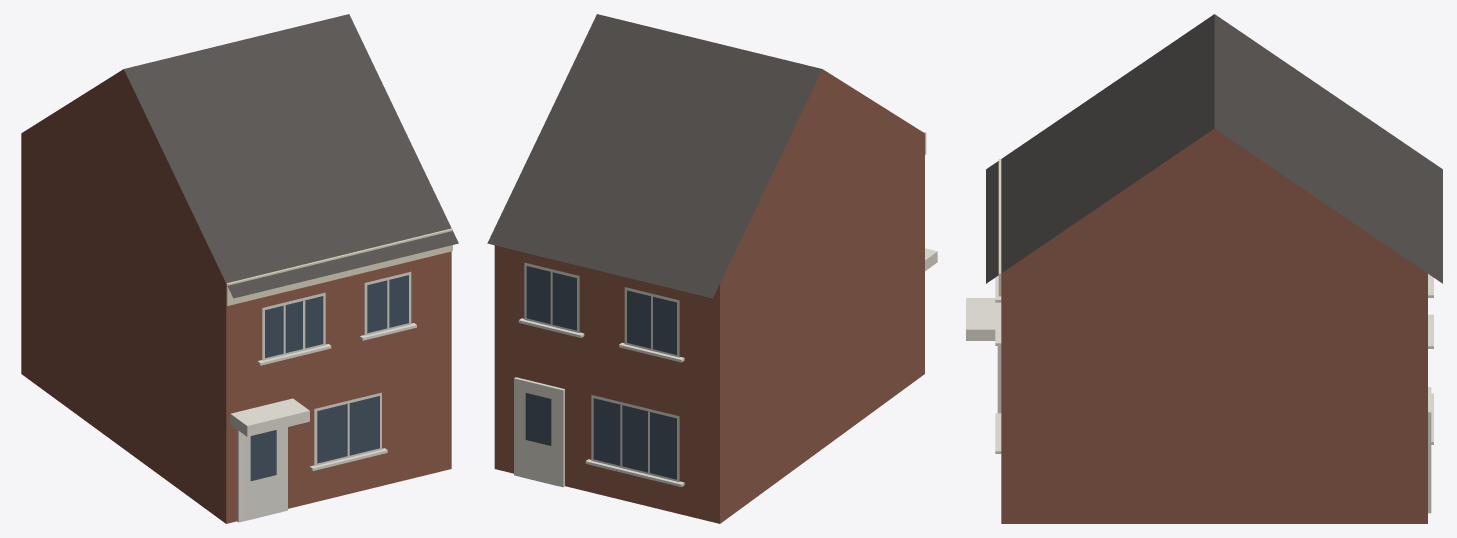
Rendered from zo-ho-maldenhof__brick__2__gable__long__solid.glb.
3 renders of one model, left to right at view 1: azimuth 30°, elevation 25°; view 2: azimuth 150°, elevation 25°; view 3: azimuth 270°, elevation 25°, orthographic. The views are drawn at different scales.
Visible parts, largest first — view 1: zo-ho-maldenhof__brick__2__gable__long__solid; view 2: zo-ho-maldenhof__brick__2__gable__long__solid; view 3: zo-ho-maldenhof__brick__2__gable__long__solid.
Part boxes in pixels (x1,y1,x2,y2): zo-ho-maldenhof__brick__2__gable__long__solid: (21,14,458,523); zo-ho-maldenhof__brick__2__gable__long__solid: (487,14,937,523); zo-ho-maldenhof__brick__2__gable__long__solid: (966,14,1442,523).
Bounding box in the file's own units: 5.4 × 8.69 × 9.5.
